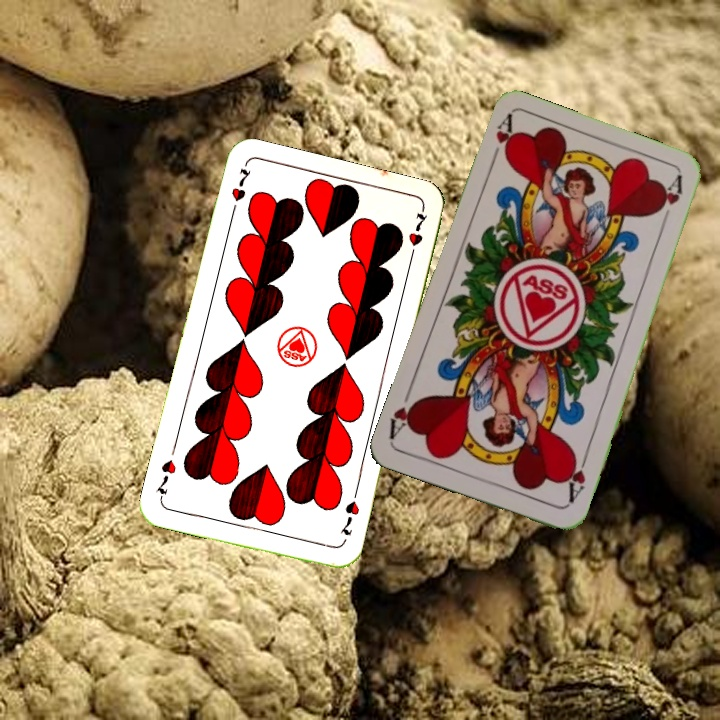H7: (226, 161, 254, 220), (337, 497, 362, 538)
HA: (486, 112, 519, 170), (561, 449, 591, 506)
